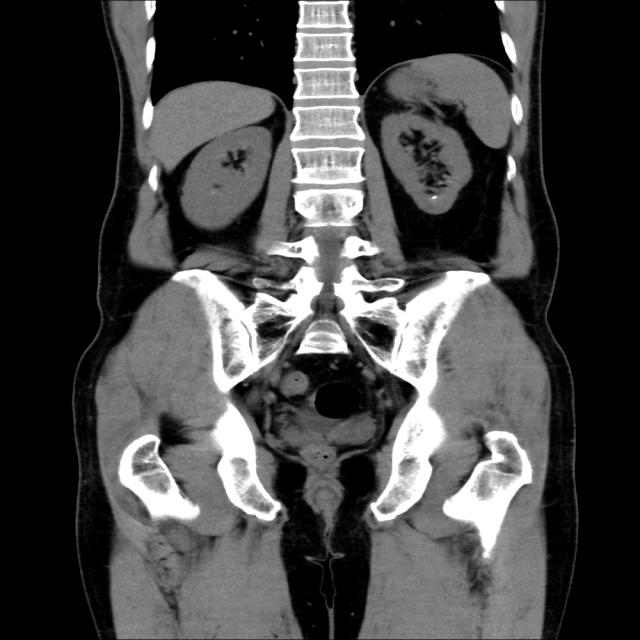kidneystone: (429, 195, 437, 201)
